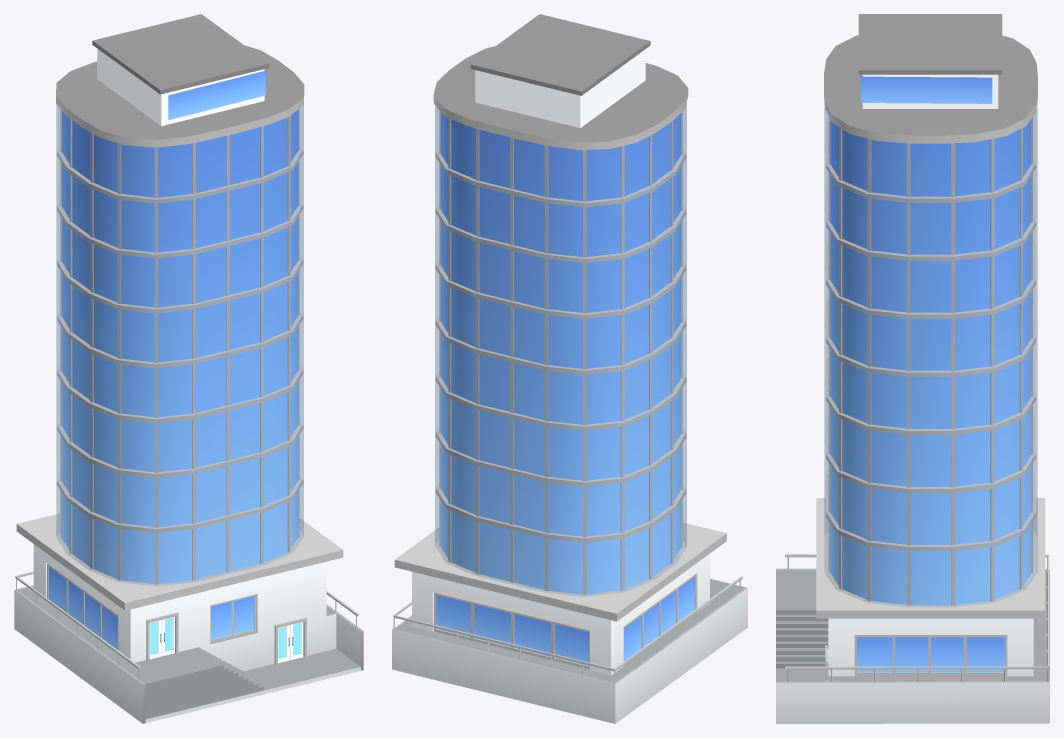
Rendered from city2-building-business-06.glb.
The picture shows the model from 3 angles, left to right: view 1: azimuth 30°, elevation 25°; view 2: azimuth 150°, elevation 25°; view 3: azimuth 270°, elevation 25°; orthographic projection. The views are drawn at different scales.
Parts seen in each view (by area): view 1: Building_Business_06; view 2: Building_Business_06; view 3: Building_Business_06.
Part boxes in pixels (bbox=[...]): Building_Business_06: bbox=[14, 14, 363, 723]; Building_Business_06: bbox=[392, 14, 747, 723]; Building_Business_06: bbox=[776, 14, 1049, 723].
Bounding box in the file's own units: 13.21 × 33.81 × 13.42.
2 materials, 2 textured.
